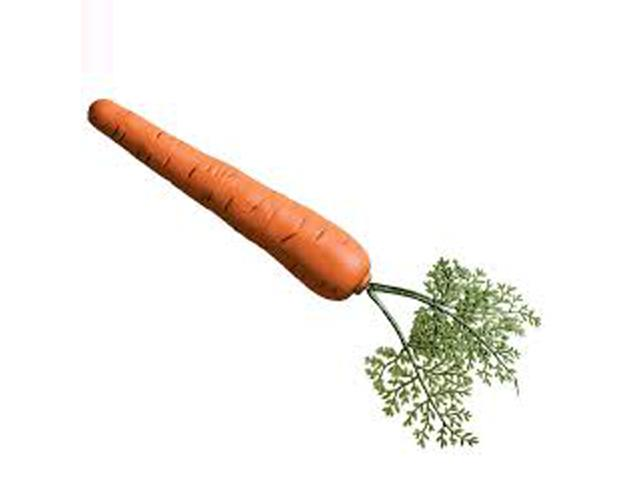carrot: (81, 99, 377, 309)
